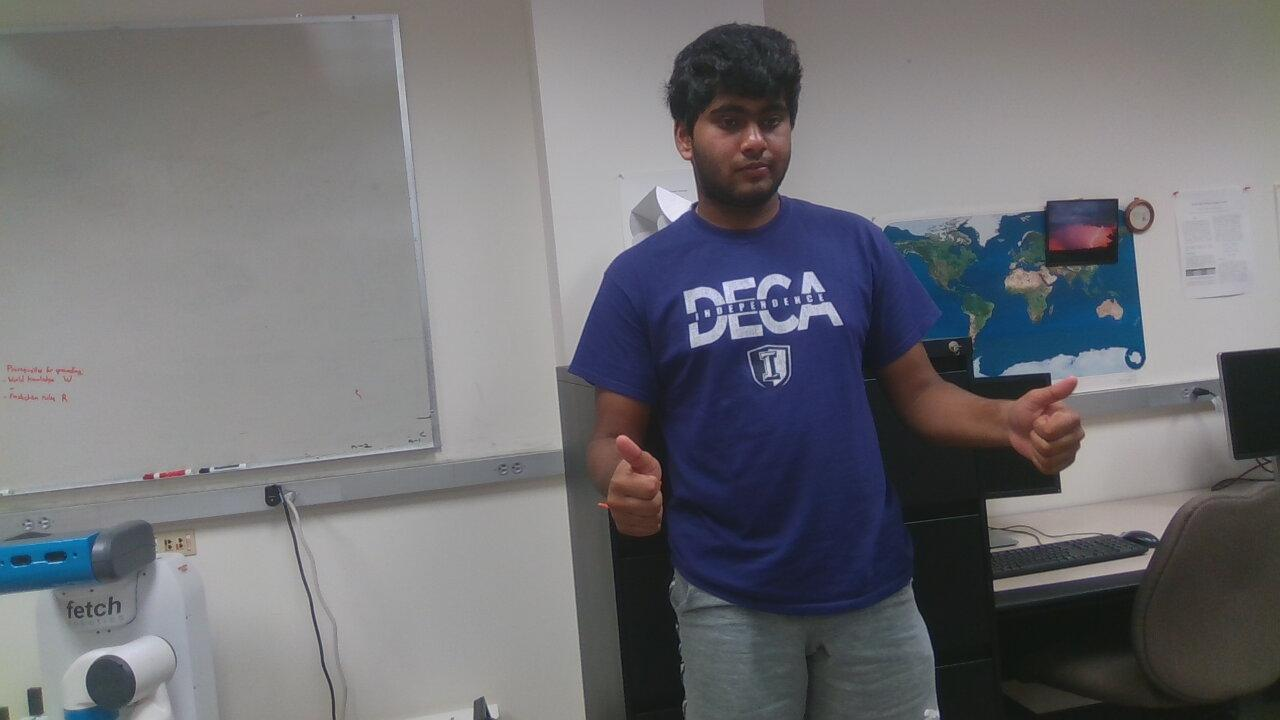hands: (586, 427, 680, 549), (1003, 372, 1100, 476)
